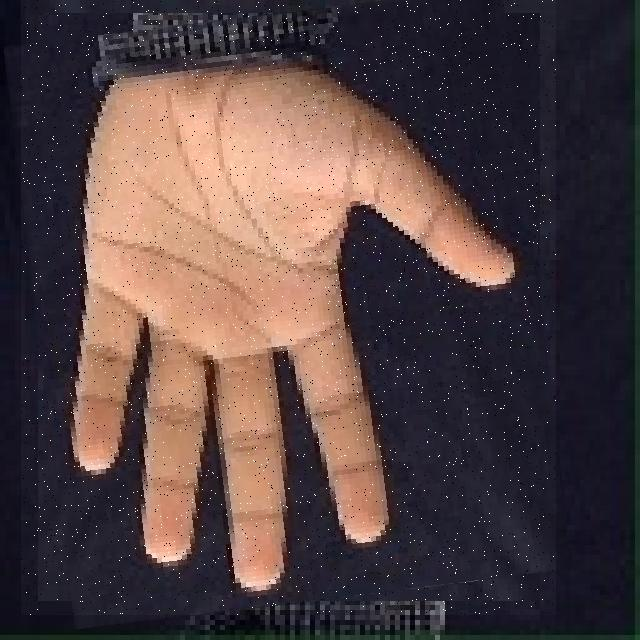Yes: (21, 0, 556, 615)
